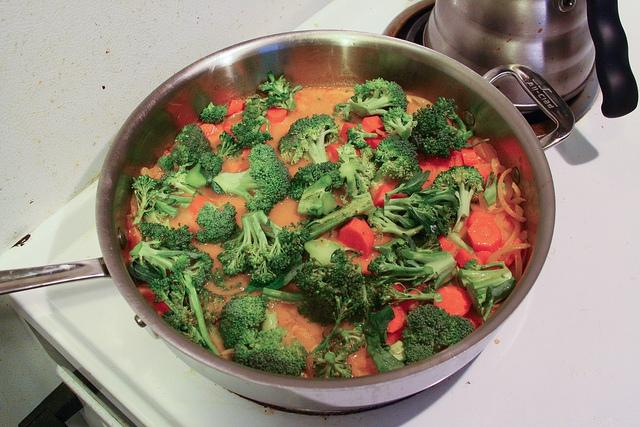broccoli: (295, 248, 369, 354), (217, 210, 309, 284), (210, 143, 292, 216), (232, 309, 309, 378), (384, 170, 460, 238), (408, 96, 490, 159), (128, 236, 214, 293), (293, 190, 377, 246), (402, 304, 476, 366), (174, 271, 220, 356), (457, 258, 518, 322), (362, 250, 434, 298), (278, 113, 340, 166), (370, 134, 422, 190), (218, 294, 268, 349), (347, 78, 408, 118), (400, 250, 458, 292), (450, 166, 484, 234), (289, 161, 343, 201), (138, 221, 200, 254), (339, 145, 377, 196), (194, 201, 238, 244), (370, 206, 424, 240), (373, 282, 443, 306), (298, 174, 336, 216), (174, 123, 213, 161), (147, 274, 185, 313), (131, 174, 158, 228), (230, 116, 273, 148), (312, 346, 352, 379), (381, 106, 418, 140), (198, 288, 223, 324), (346, 123, 378, 150), (483, 171, 505, 207), (338, 326, 366, 354), (217, 130, 243, 158), (147, 180, 175, 204), (242, 94, 268, 119), (200, 102, 228, 124), (162, 176, 196, 194), (144, 207, 171, 229), (199, 152, 224, 174), (185, 163, 207, 188), (153, 198, 180, 218), (264, 92, 290, 110), (172, 145, 188, 166), (157, 155, 174, 172), (168, 196, 193, 202)
carrot: (338, 218, 374, 258), (433, 285, 472, 317), (467, 217, 502, 252), (138, 282, 172, 316), (484, 243, 532, 265), (426, 146, 456, 174), (126, 214, 142, 261), (187, 193, 216, 215), (454, 248, 484, 269), (373, 183, 394, 208), (387, 307, 404, 333), (362, 116, 386, 134), (341, 121, 358, 142), (266, 107, 288, 123), (461, 148, 480, 166), (437, 235, 455, 252), (385, 330, 404, 346), (200, 124, 220, 138), (328, 144, 343, 162), (150, 164, 166, 180), (227, 100, 244, 115), (478, 166, 493, 182), (476, 250, 492, 264), (222, 122, 235, 136), (454, 150, 464, 167), (375, 128, 387, 136)
